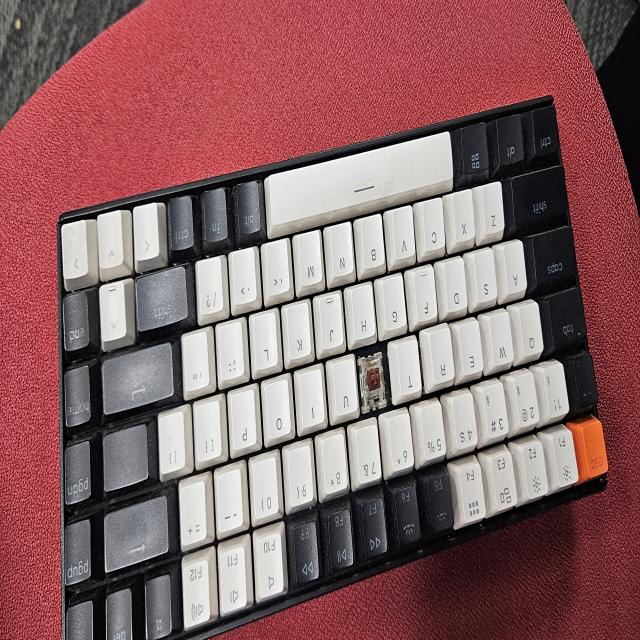C: (360, 352, 390, 403)
